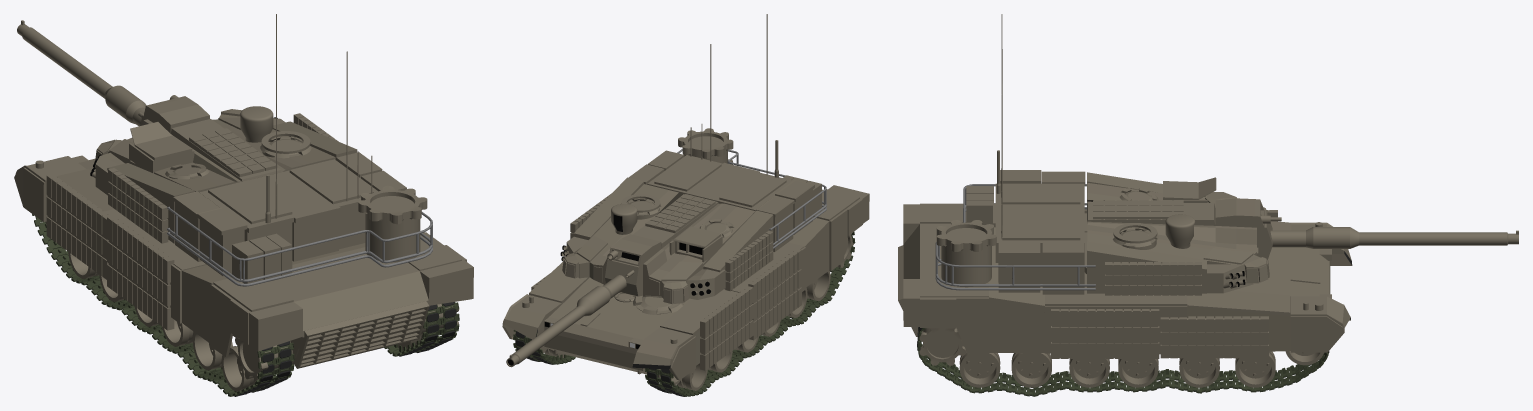
File: K-2 Black panther mbt tank 1.fbx
The picture shows the model from 3 angles, left to right: view 1: azimuth 30°, elevation 25°; view 2: azimuth 150°, elevation 25°; view 3: azimuth 270°, elevation 25°; orthographic projection. The views are drawn at different scales.
Visible parts, largest first — view 1: 차체, 큐브.002, Cube, 큐브.028, 큐브.034, 큐브.029, 실린더.002, 궤도, 실린더, 큐브.011, 큐브.010, 큐브.015 (+24 smaller); view 2: 차체, Cube, 큐브.002, 큐브.028, 큐브.029, 궤도, 실린더, 큐브.011, 큐브.006, 큐브.015, 실린더.002, 큐브.010 (+19 smaller); view 3: 차체, Cube, 큐브.002, 큐브.031, 큐브.030, 실린더, 궤도.003, 큐브.012, 실린더.002, 큐브.007, 큐브.004, 큐브.013 (+20 smaller).
Boxes of the visible parts, x1,y1,x2,y2 form: 차체: [14, 119, 473, 357]; 큐브.002: [199, 159, 377, 261]; Cube: [108, 96, 335, 192]; 큐브.028: [107, 216, 174, 330]; 큐브.034: [293, 301, 429, 368]; 큐브.029: [46, 174, 110, 279]; 실린더.002: [358, 185, 427, 262]; 궤도: [32, 214, 277, 396]; 실린더: [17, 20, 146, 126]; 큐브.011: [108, 168, 168, 243]; 큐브.010: [129, 122, 194, 173]; 큐브.015: [189, 128, 277, 177]; 차체: [502, 159, 869, 380]; Cube: [574, 184, 755, 298]; 큐브.002: [647, 155, 792, 211]; 큐브.028: [748, 248, 801, 340]; 큐브.029: [700, 286, 753, 370]; 궤도: [658, 232, 855, 396]; 실린더: [506, 275, 626, 367]; 큐브.011: [725, 230, 773, 291]; 큐브.006: [703, 210, 773, 280]; 큐브.015: [645, 194, 715, 233]; 실린더.002: [678, 128, 733, 163]; 큐브.010: [669, 226, 722, 262]; 차체: [903, 203, 1352, 354]; Cube: [1087, 183, 1272, 264]; 큐브.002: [993, 183, 1084, 287]; 큐브.031: [1051, 309, 1159, 358]; 큐브.030: [1160, 316, 1268, 358]; 실린더: [1270, 227, 1518, 248]; 궤도.003: [917, 327, 1329, 396]; 큐브.012: [1105, 262, 1201, 295]; 실린더.002: [936, 220, 996, 287]; 큐브.007: [1087, 241, 1206, 293]; 큐브.004: [1042, 242, 1084, 294]; 큐브.013: [998, 243, 1040, 292].
Size of the model in its own units: 54.66 by 84.66 by 147.
